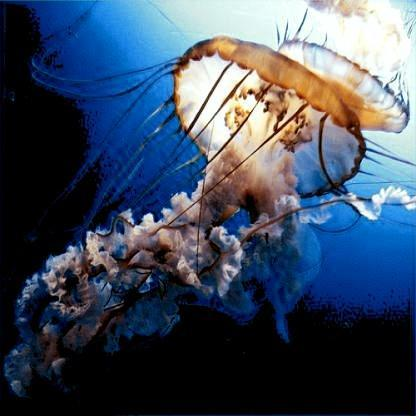Dressed: (10, 30, 364, 390), (278, 4, 408, 138)
